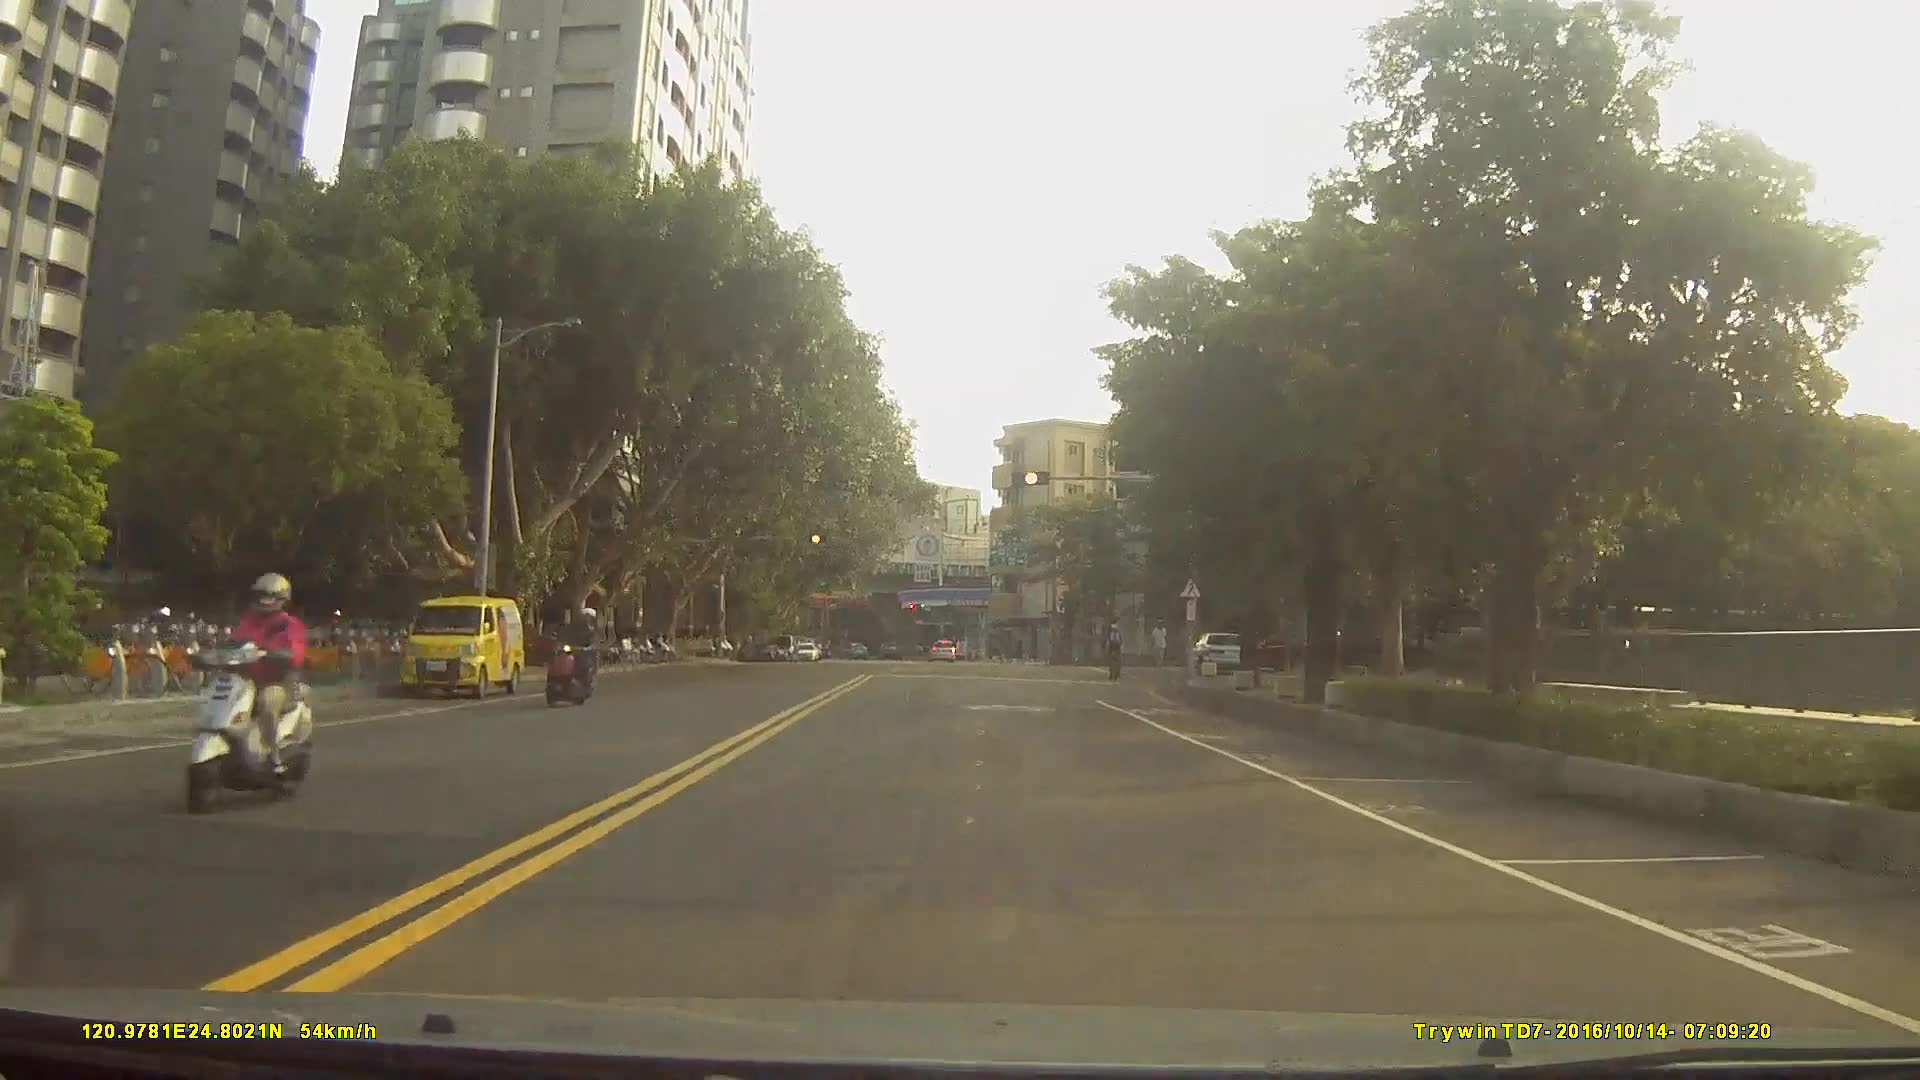pedestrian: (1150, 617, 1170, 674)
rider: (184, 570, 316, 815), (545, 605, 604, 708), (1105, 619, 1127, 679)
vehicle: (1189, 630, 1246, 671), (930, 638, 956, 662)
